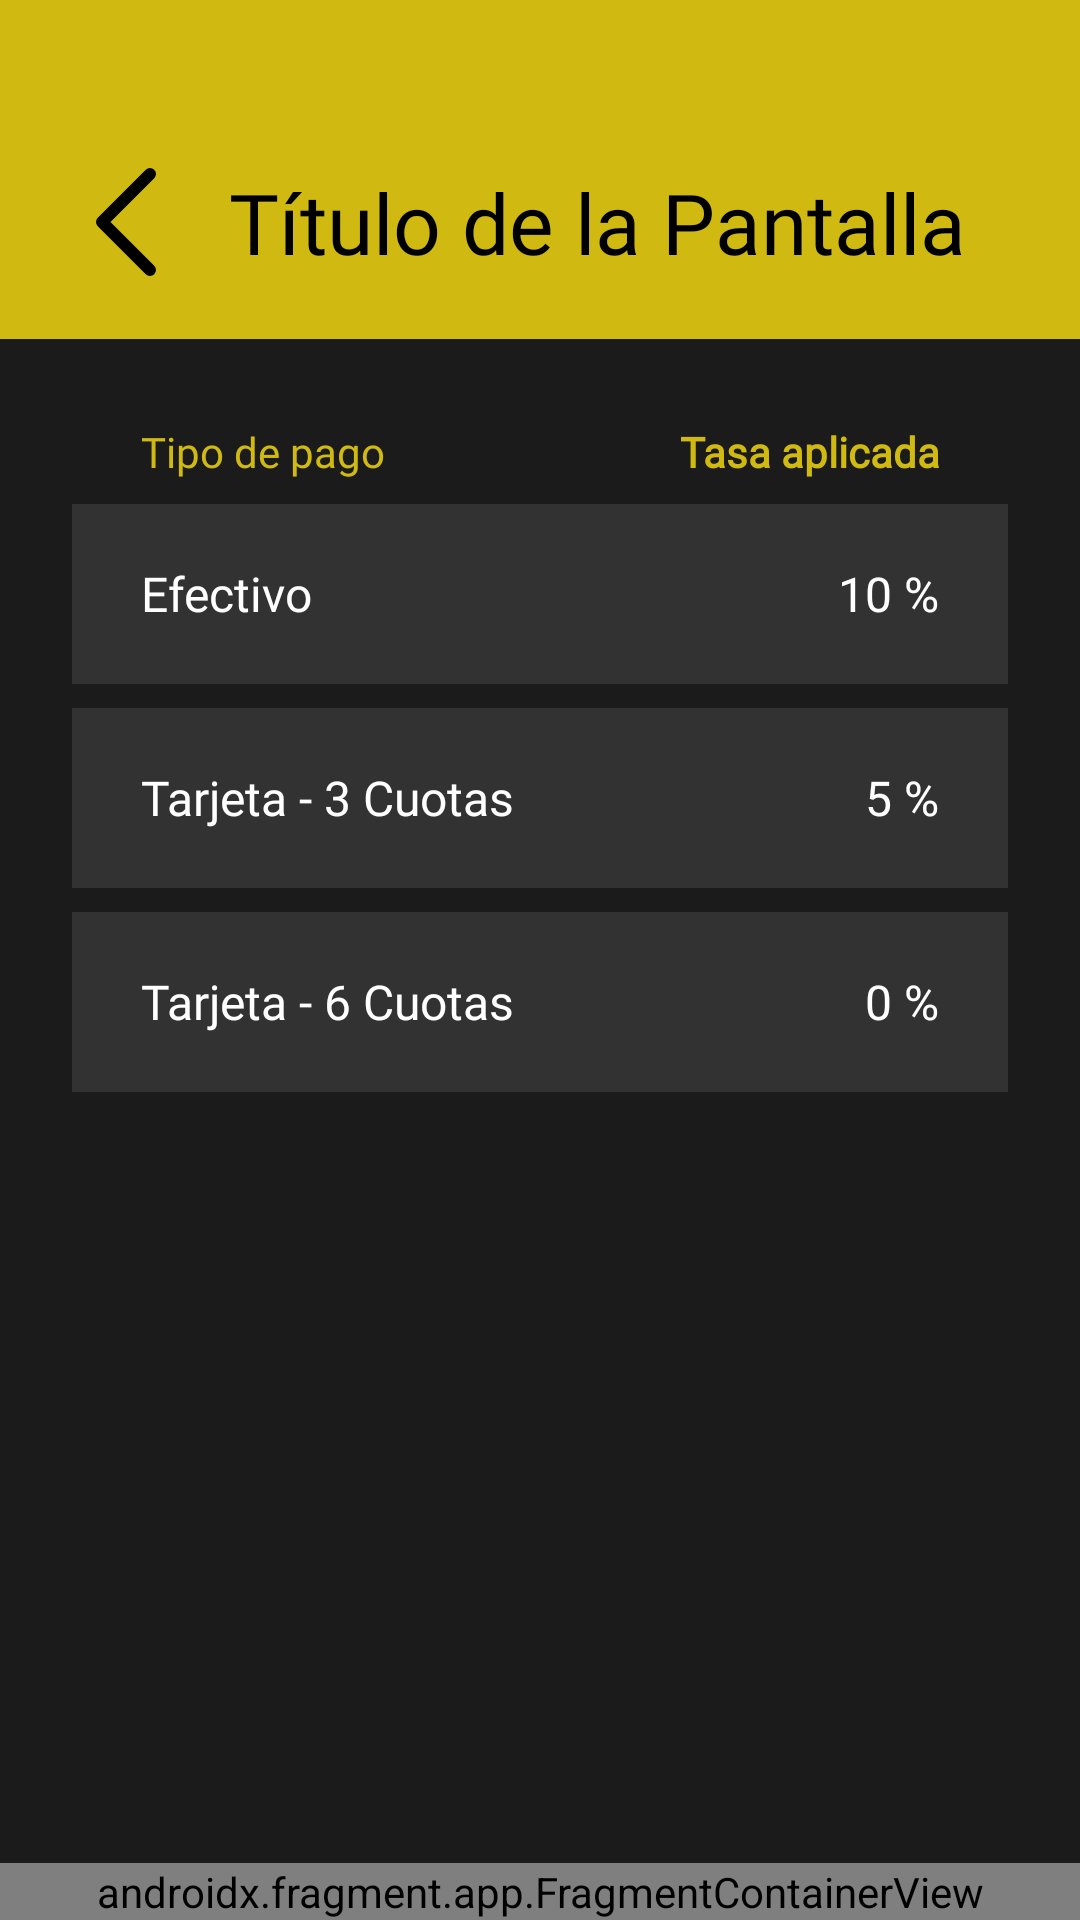

Where icons sit on this 1080×1920 app screen, as (x1, y1, x2, y2):
atras: (96, 168, 156, 276)
